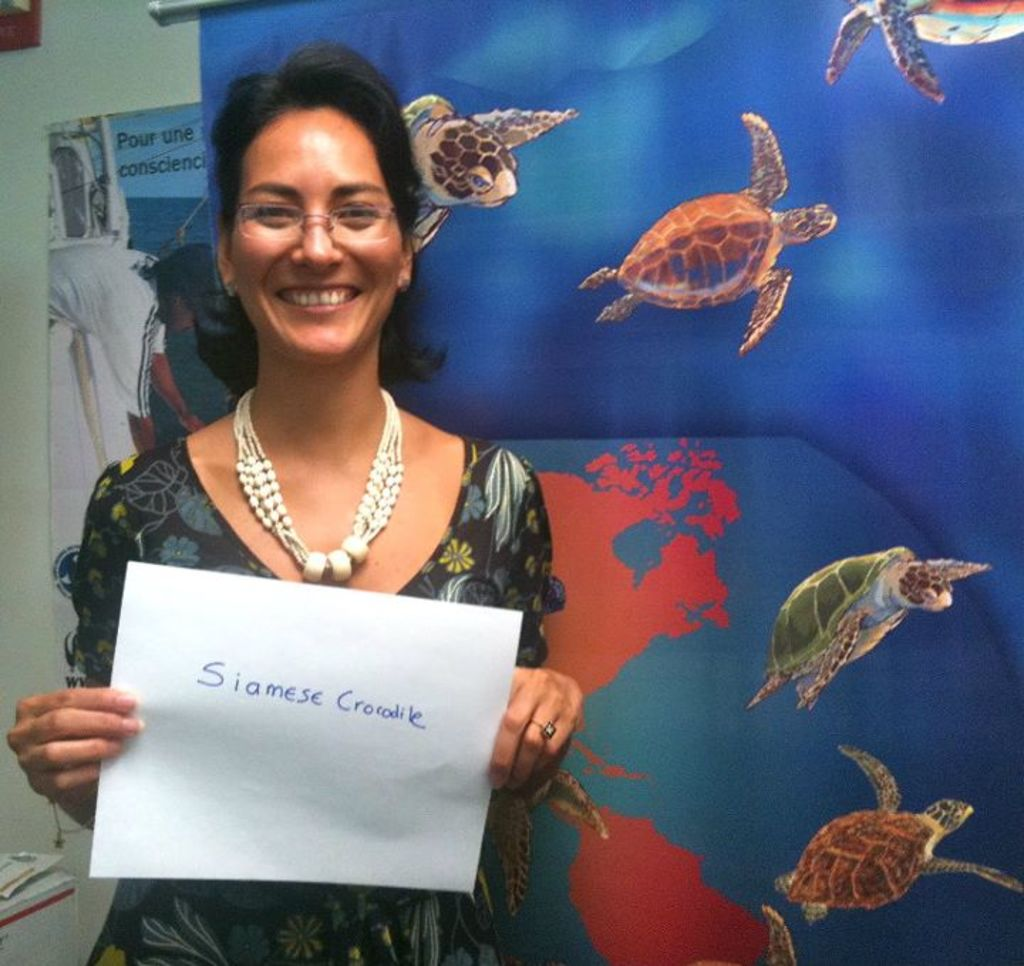Sea turtles: (567, 101, 834, 352), (745, 534, 987, 728), (772, 736, 1022, 919), (395, 86, 584, 261), (826, 0, 937, 106)
